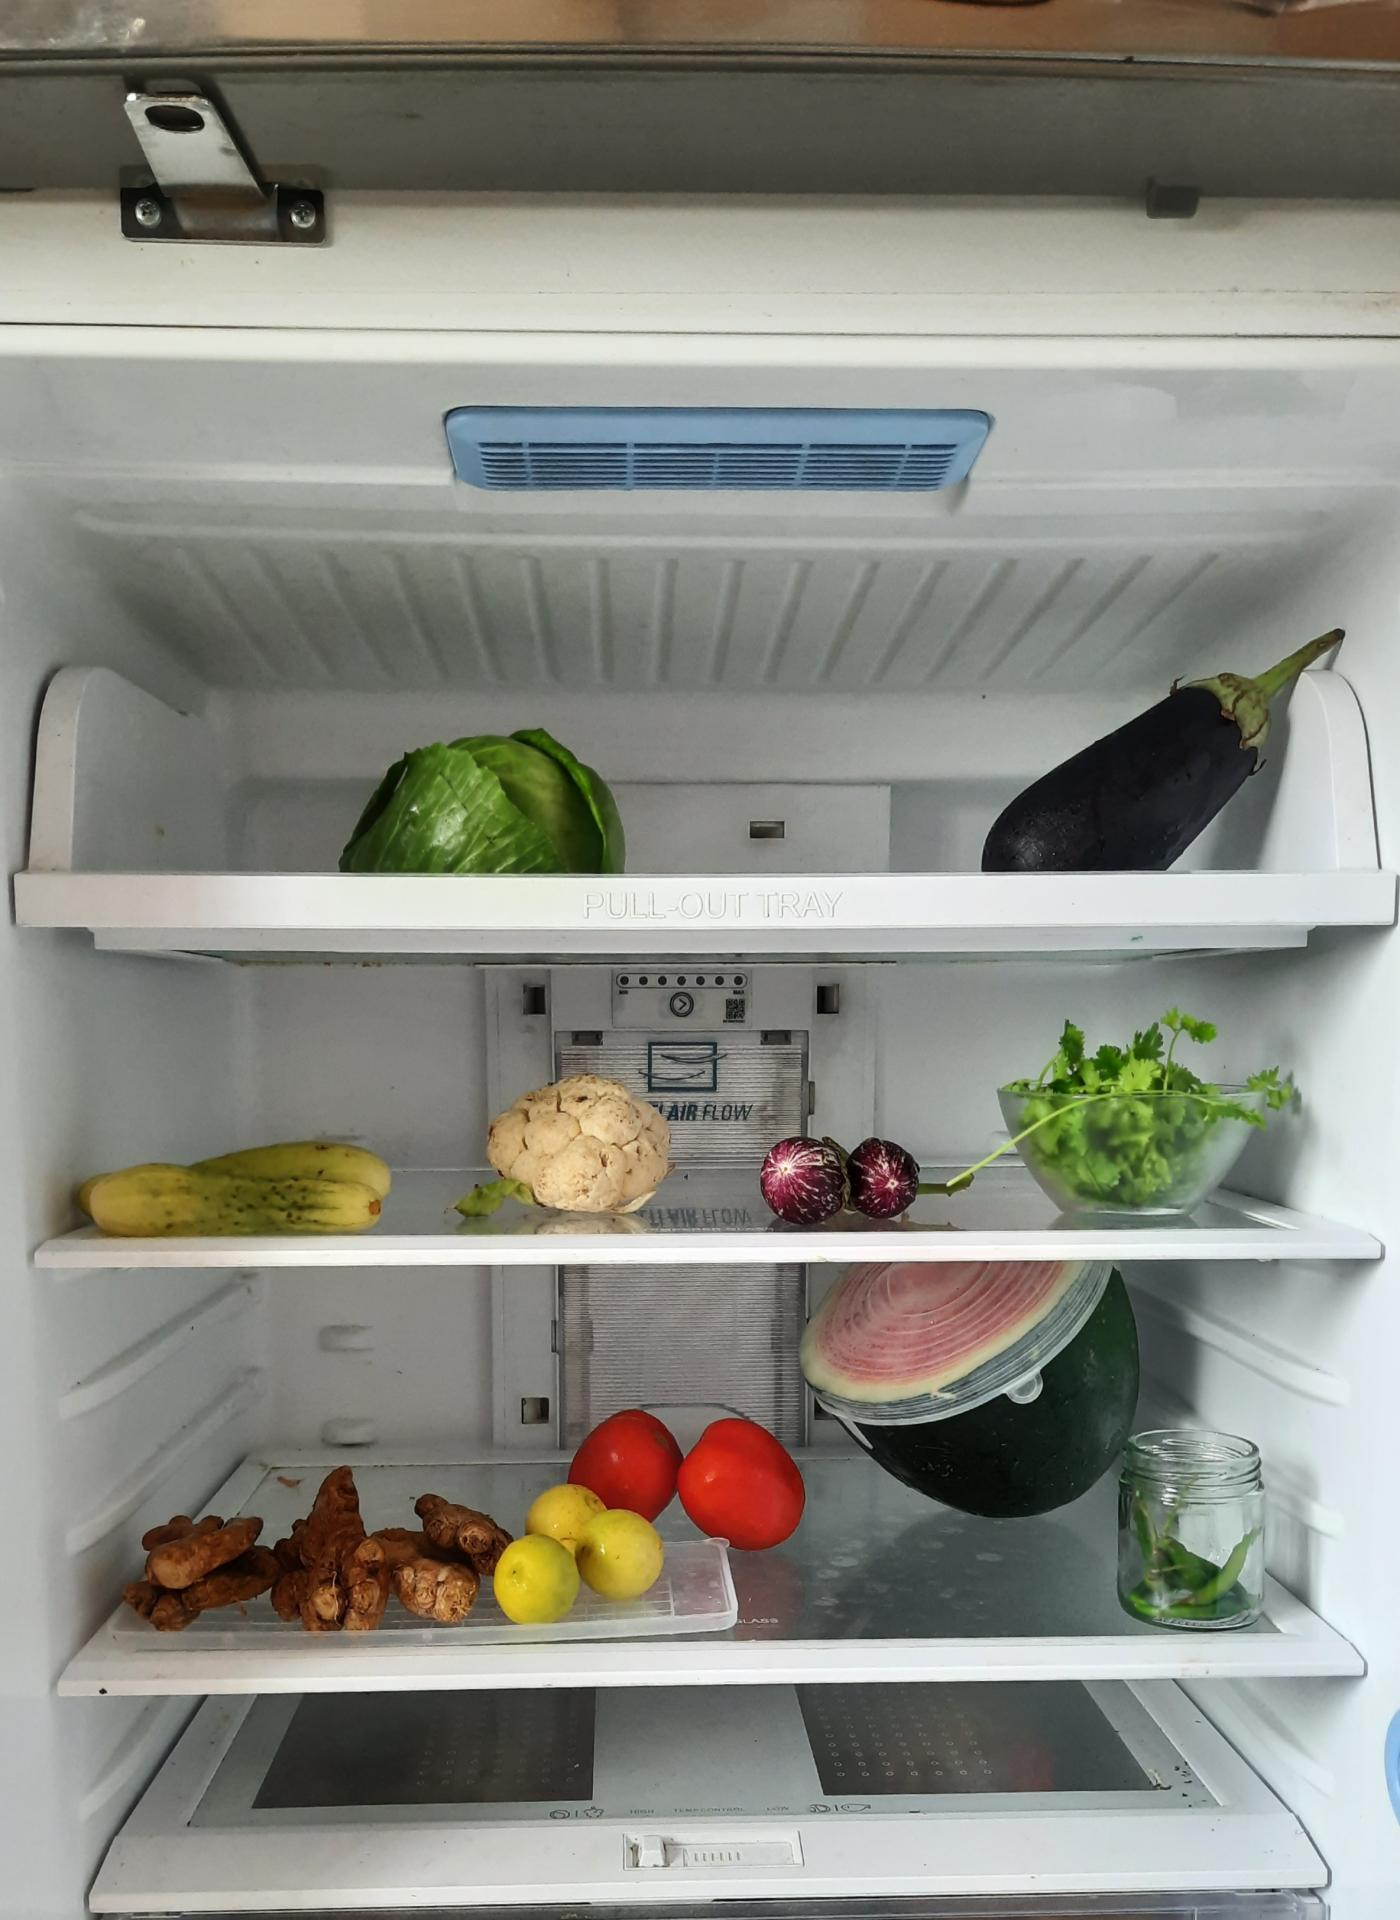brinjal: (969, 601, 1372, 878), (765, 1127, 924, 1224)
cabbage: (340, 735, 631, 877)
cauliflower: (471, 1069, 678, 1212)
chillies: (1127, 1479, 1263, 1617)
coriander: (1015, 1005, 1258, 1200)
cucumber: (85, 1133, 395, 1231)
ginger: (140, 1479, 507, 1644)
lemon: (498, 1485, 656, 1629)
tomato: (567, 1407, 804, 1549)
watermelon: (802, 1251, 1139, 1513)
